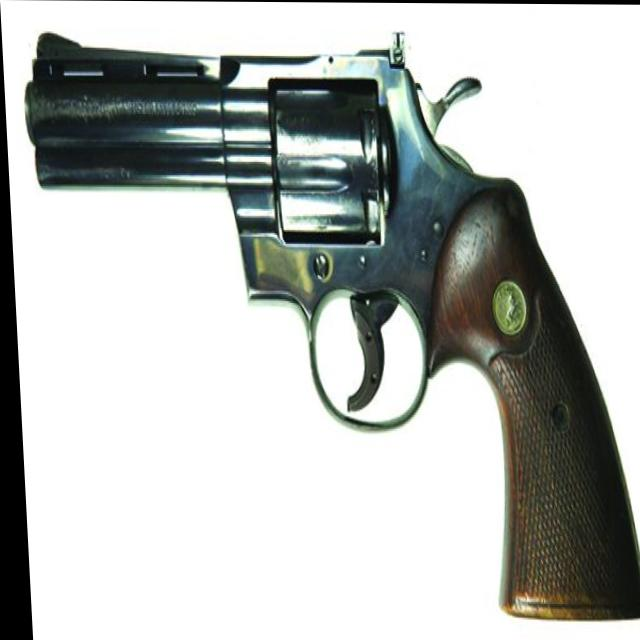handgun: (20, 16, 640, 640)
